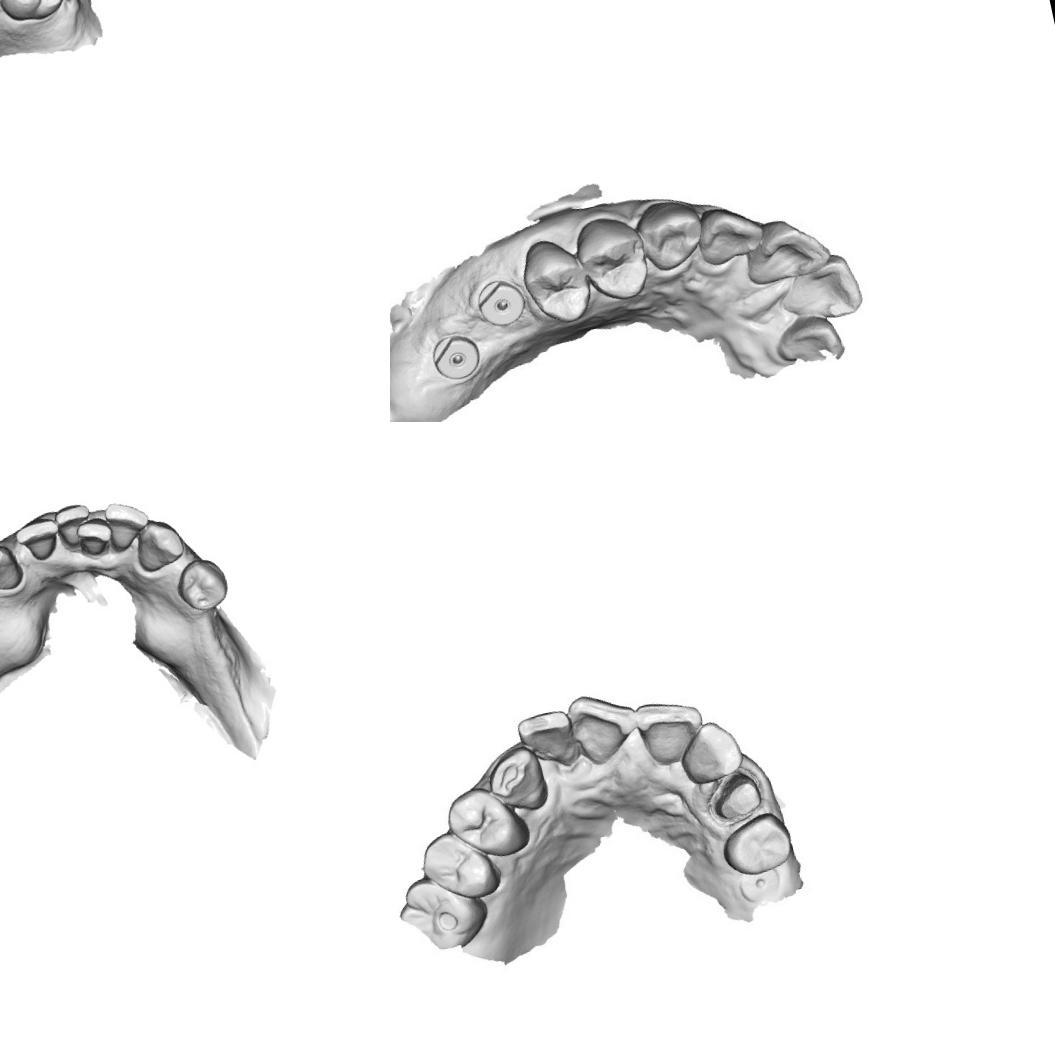canine: (633, 193, 714, 278), (482, 742, 554, 819), (129, 514, 189, 576), (0, 534, 25, 597)
crown: (709, 771, 767, 825)
implant: (420, 322, 486, 390), (475, 276, 527, 334), (732, 866, 790, 907)
incisor: (734, 211, 839, 291), (771, 253, 862, 328), (691, 195, 770, 276), (631, 689, 710, 768), (565, 686, 644, 764), (678, 713, 746, 793), (512, 706, 582, 776), (101, 495, 156, 554), (12, 514, 64, 566), (51, 500, 97, 550), (74, 514, 116, 560)
molar: (394, 869, 495, 959), (0, 0, 74, 28)
premolar: (513, 230, 602, 330), (576, 212, 652, 309), (444, 780, 526, 856), (717, 805, 800, 878), (419, 828, 497, 903), (170, 554, 234, 618)
